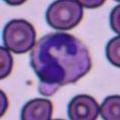N: (30, 32, 91, 95)
